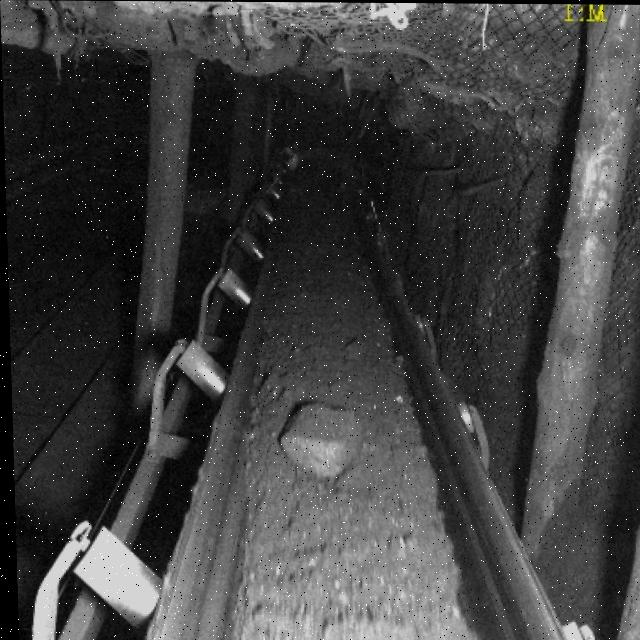large_sized_coal: (275, 406, 358, 477)
